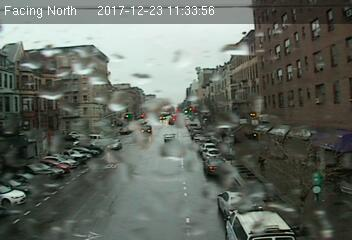car: (204, 156, 225, 174), (107, 139, 121, 151), (163, 133, 175, 142)
police: (221, 203, 309, 240)
